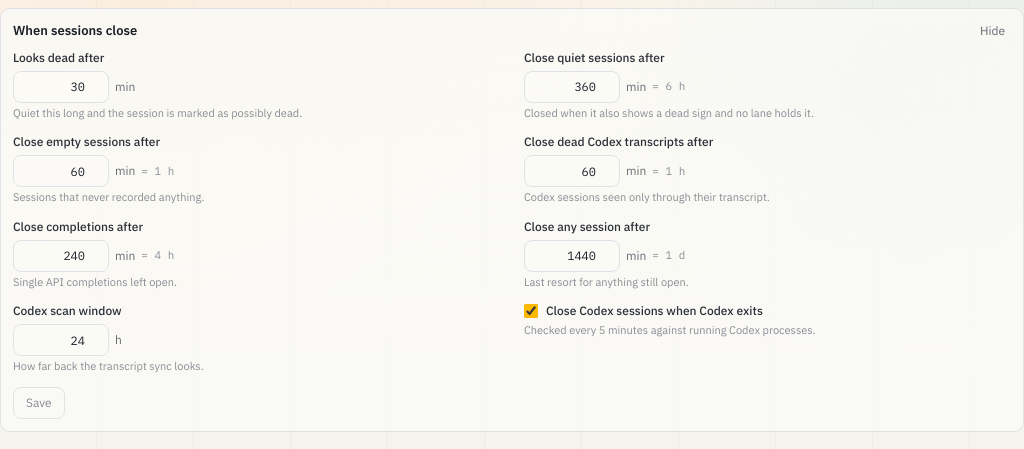
Test: CloseSettingsPanel › saves only the changed settings
Expected: the button "Save" is disabled, [13,386,65,418]
Replace the text in the number field labelled "Close quiet sessions after" with "120" at [572, 86], box [524,70,620,102]
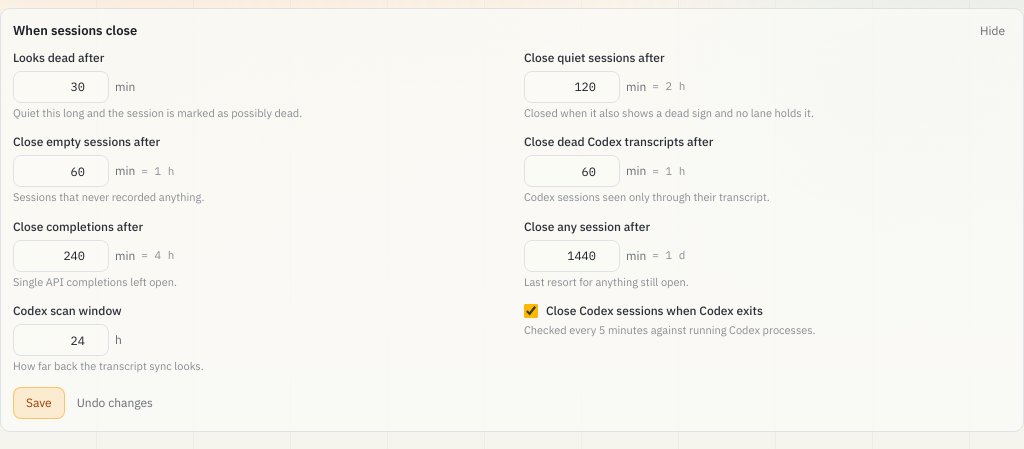
Click the checkbox labelled "Close Codex sessions when Codex exits" at [531, 311], box [524,304,538,318]
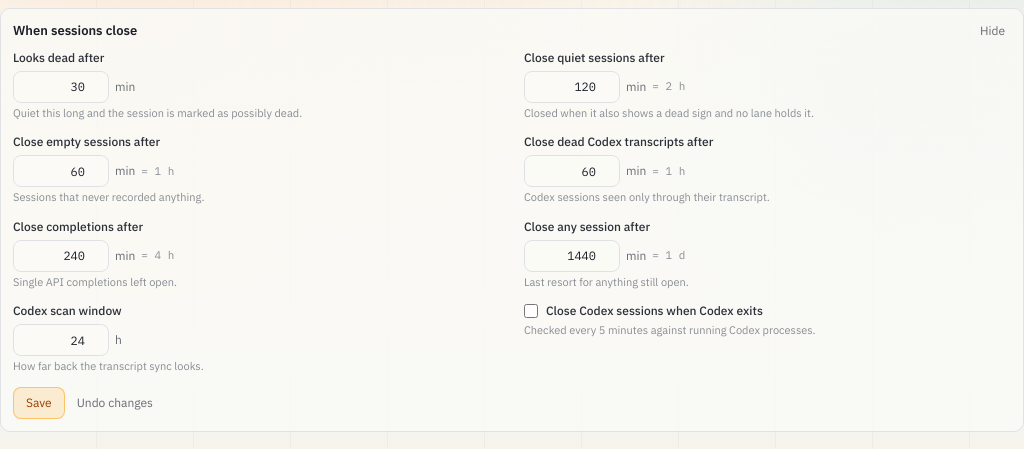
Click the button "Save" at [39, 402], box [13,386,65,418]
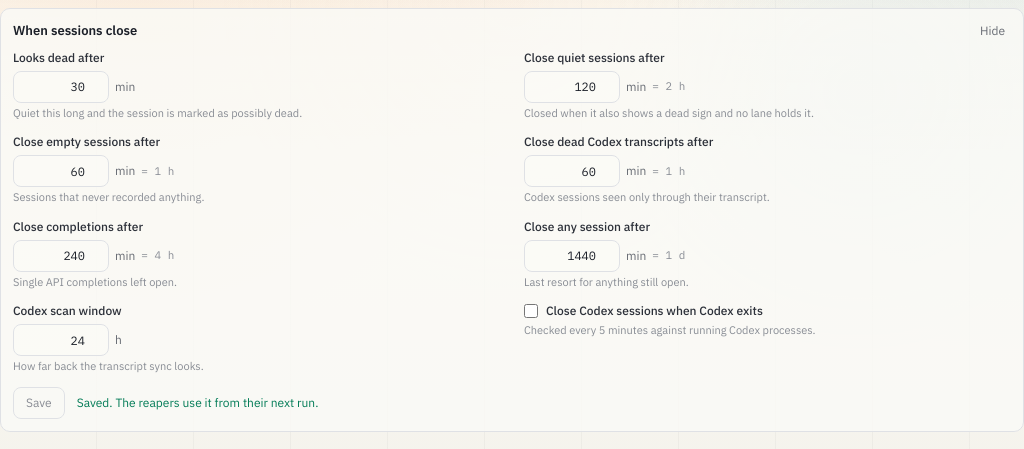
Now the text "Saved. The reapers use it from their next run." is shown, box [77,394,318,410]
